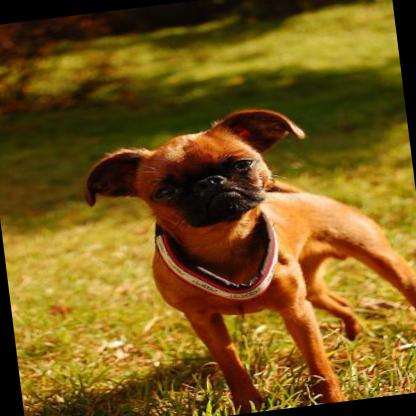Brabancon_griffon: (72, 87, 416, 416)
